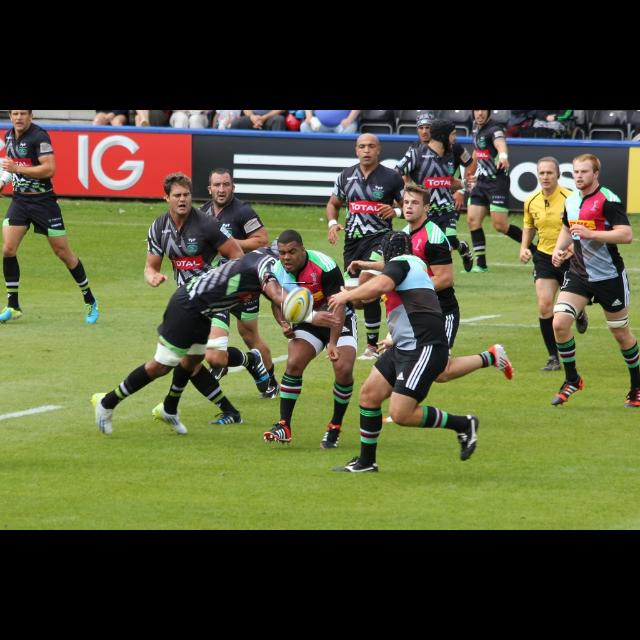Football: (281, 283, 313, 323)
